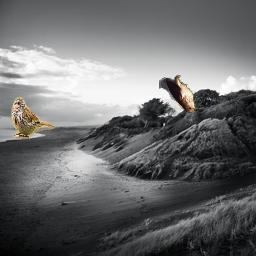Cuckoo: (159, 75, 199, 113)
Sparrow: (12, 98, 55, 141)
